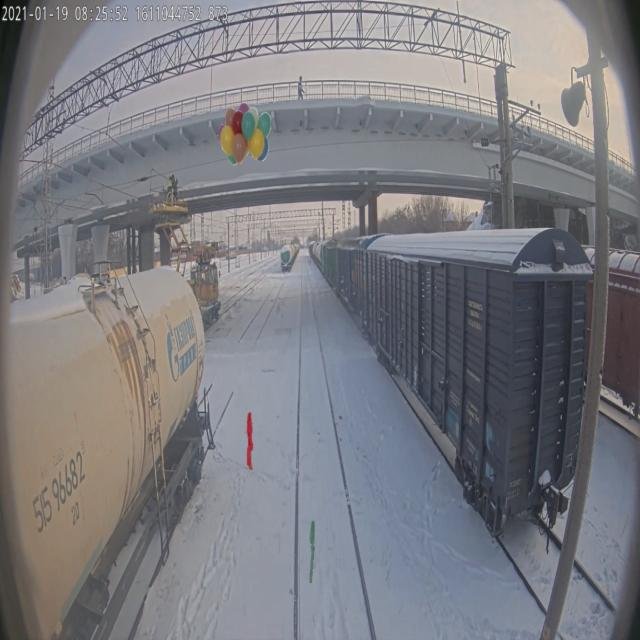balloon: (218, 101, 272, 166)
floating object: (247, 408, 254, 472), (309, 519, 315, 583)
